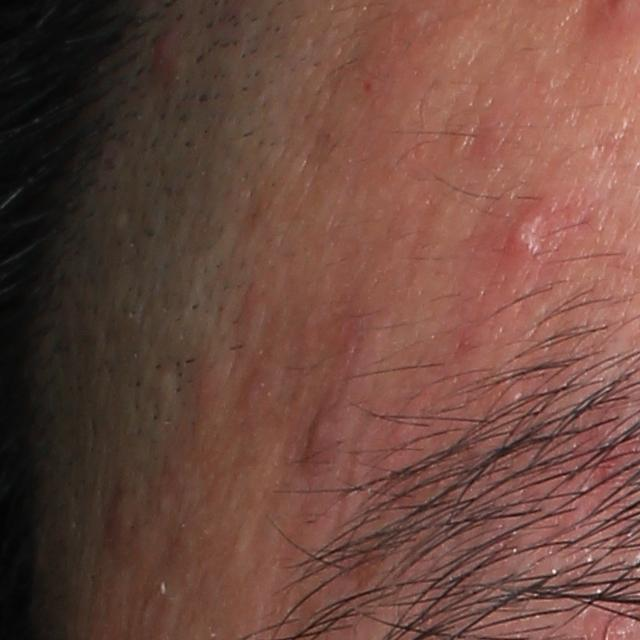papule: (185, 357, 230, 425), (502, 196, 547, 261), (304, 407, 343, 460), (151, 30, 176, 71)
